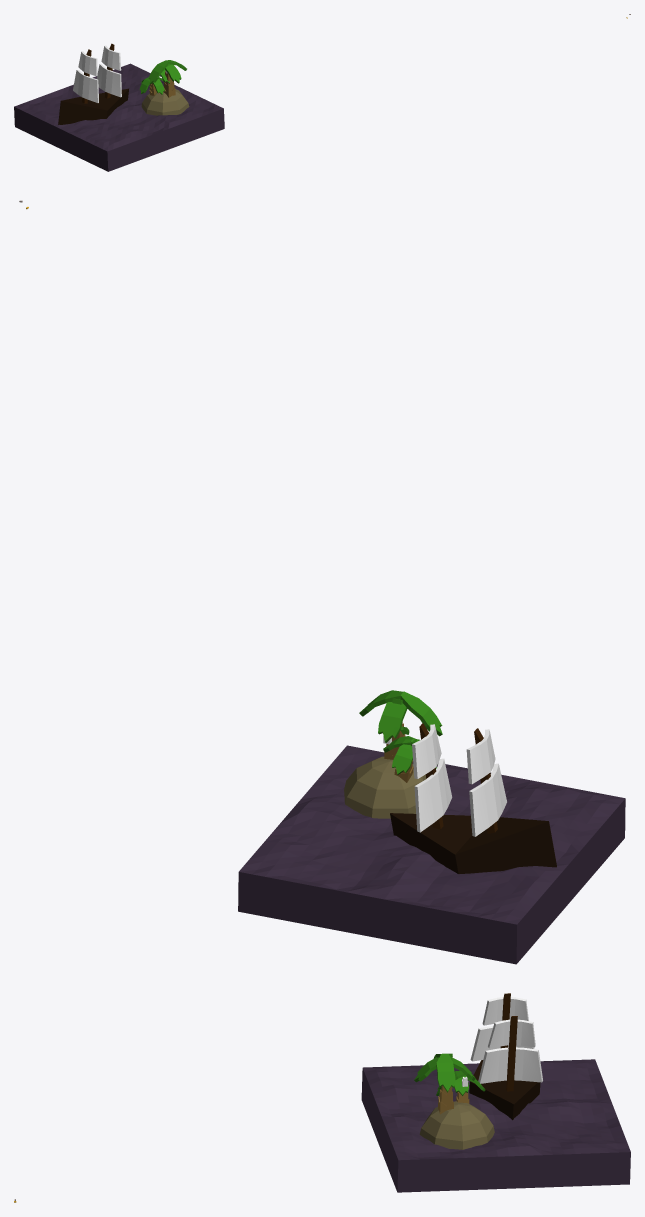
The model's file is contamination.glb.
3 views of the same model, one above another, from view 1: azimuth 30°, elevation 25°; view 2: azimuth 150°, elevation 25°; view 3: azimuth 270°, elevation 25° (orthographic). The views are drawn at different scales.
Parts seen in each view (by area): view 1: Cube_1, Flotar, Sphere_10; view 2: Cube_1, Flotar, Sphere_10; view 3: Cube_1, Flotar, Sphere_10, Plane.010_31.
Boxes of the visible parts, x1,y1,x2,y2 form: Cube_1: [14, 63, 224, 171]; Flotar: [58, 43, 128, 124]; Sphere_10: [141, 89, 189, 115]; Cube_1: [238, 745, 625, 964]; Flotar: [390, 723, 556, 873]; Sphere_10: [344, 756, 426, 818]; Cube_1: [361, 1059, 630, 1192]; Flotar: [469, 993, 542, 1120]; Sphere_10: [419, 1101, 494, 1149]; Plane.010_31: [436, 1054, 455, 1092].
Bounding box in the file's own units: 309 × 96.98 × 242.
Materials: 11 (2 with a texture image).
